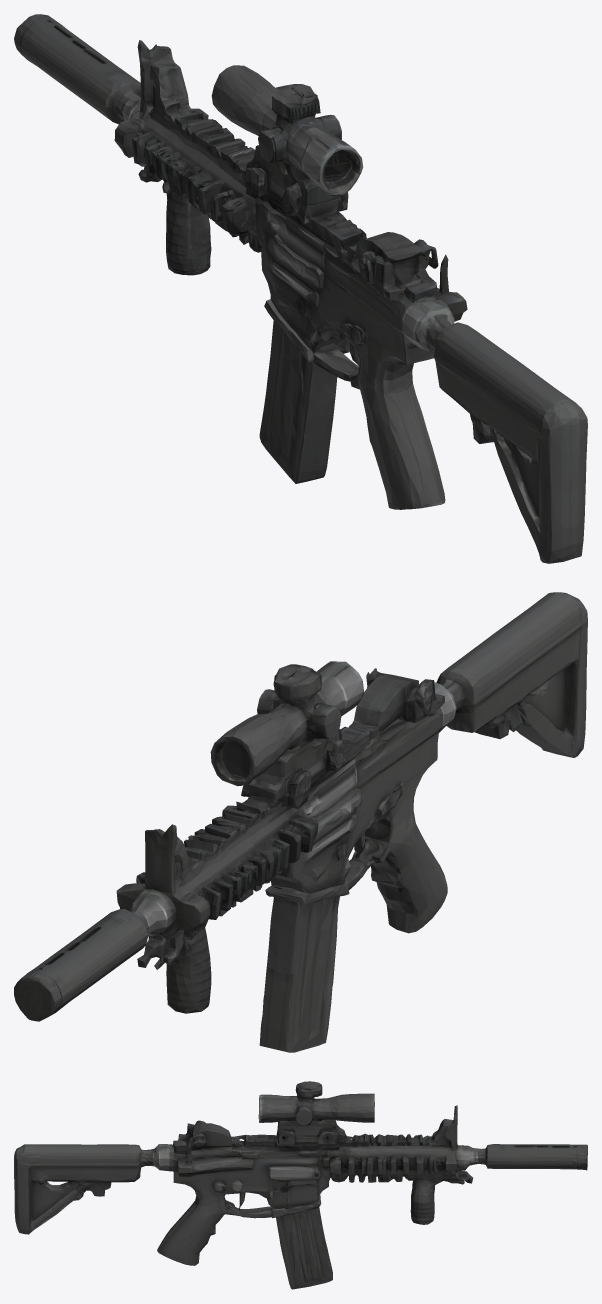
3 renders of one model, top to bottom at view 1: azimuth 30°, elevation 25°; view 2: azimuth 150°, elevation 25°; view 3: azimuth 270°, elevation 25°, orthographic. The views are drawn at different scales.
Visible parts, largest first — view 1: temp; view 2: temp; view 3: temp.
Boxes of the visible parts, x1,y1,x2,y2 form: temp: (14,14,587,563); temp: (14,592,587,1052); temp: (14,1081,587,1289).
Size of the model in its own units: 20.51 by 77.91 by 200.
1 material, 1 textured.
